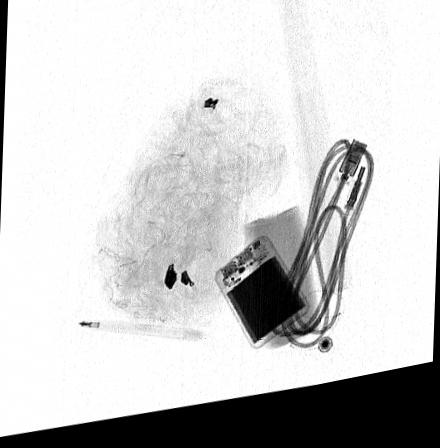Powerbank: (212, 244, 311, 361)
